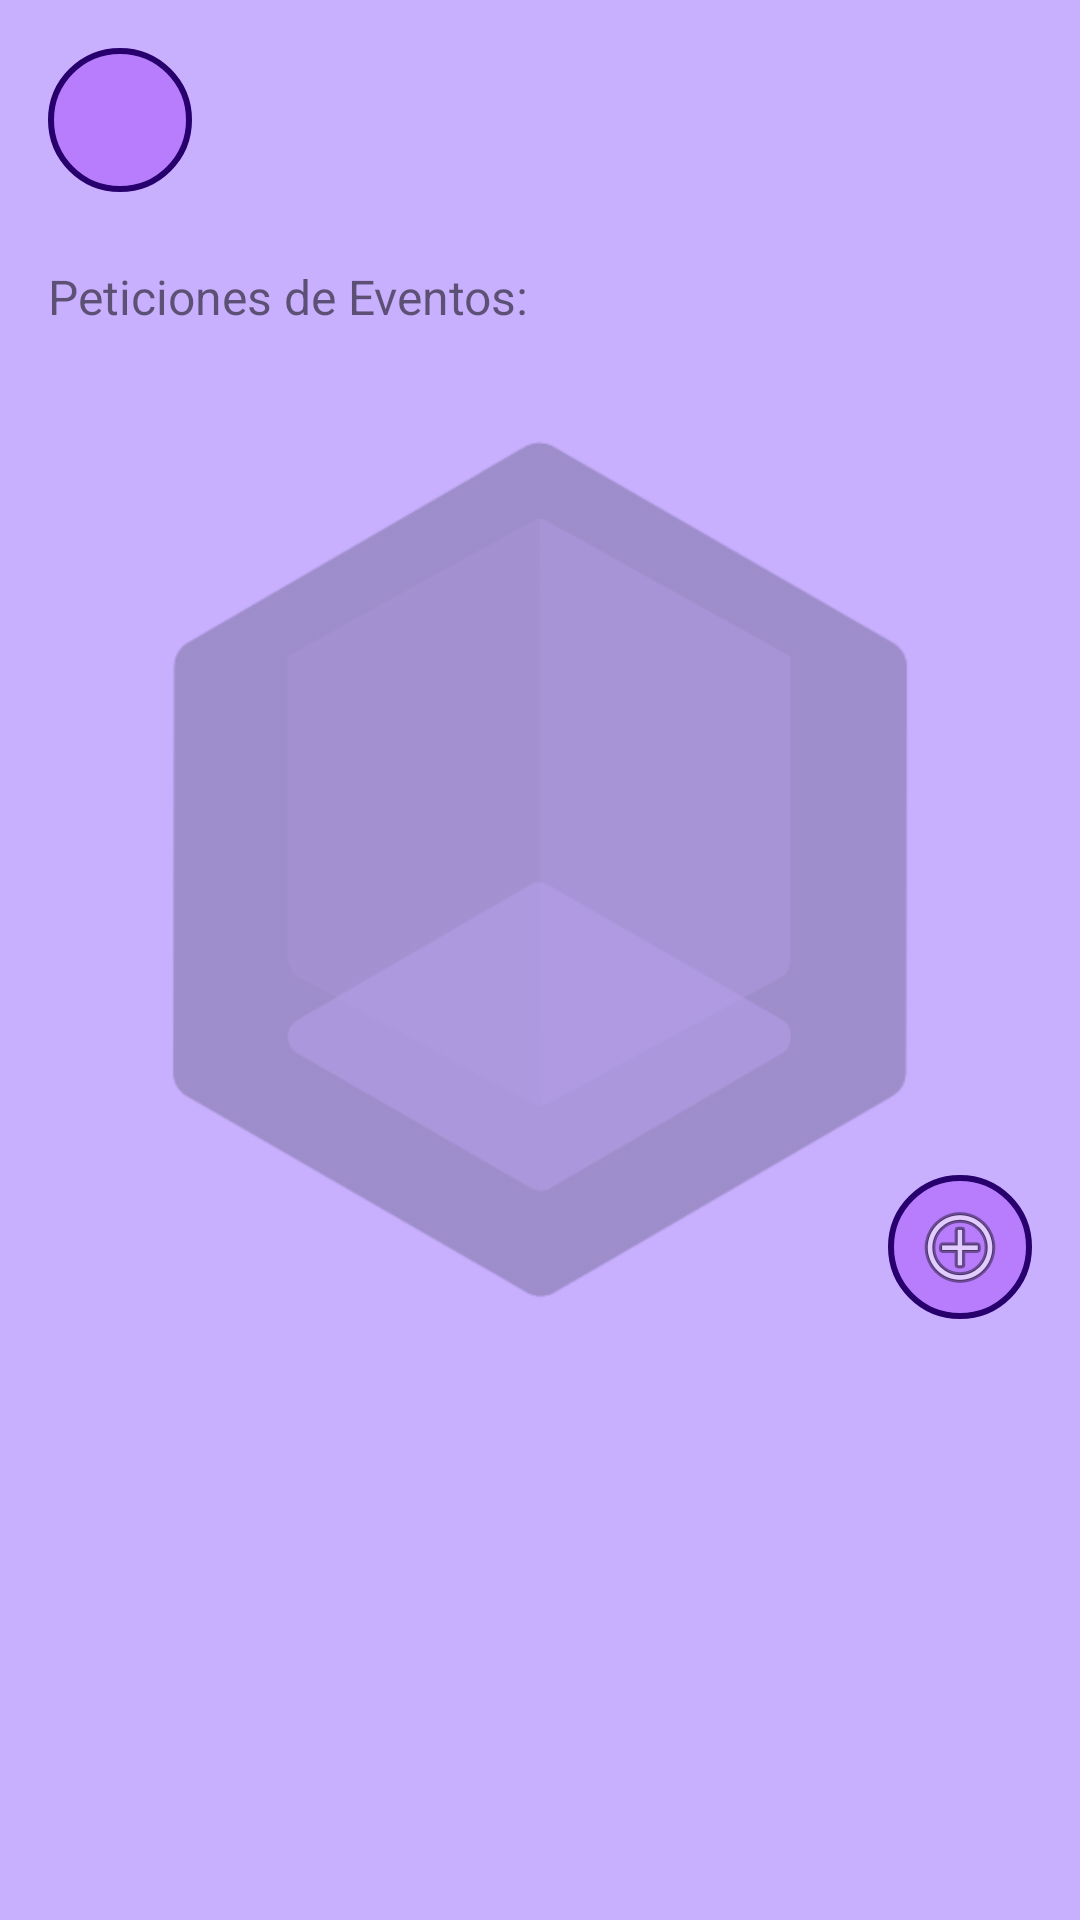

Named icons in this screenshot (1080px×1920px) and their bounding boxes, (left=x1, top=y1, right=x2, bottom=y2):
boton a crear nueva peticion de evento: (left=888, top=1175, right=1032, bottom=1319)
